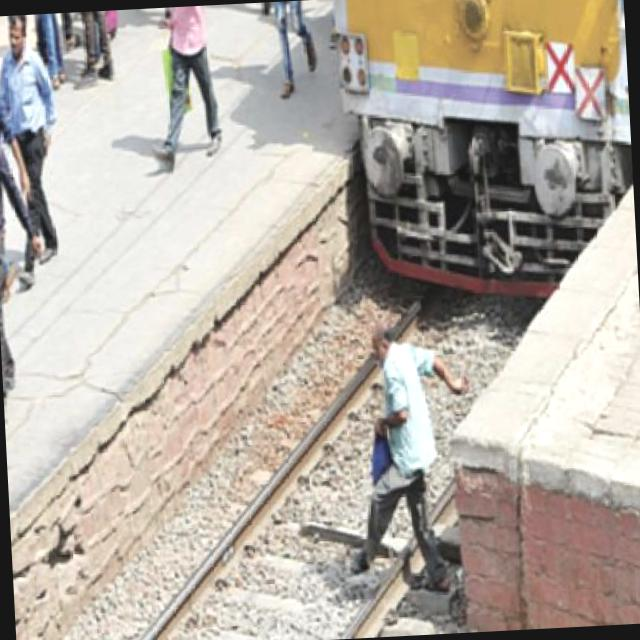Person: (356, 313, 454, 602)
